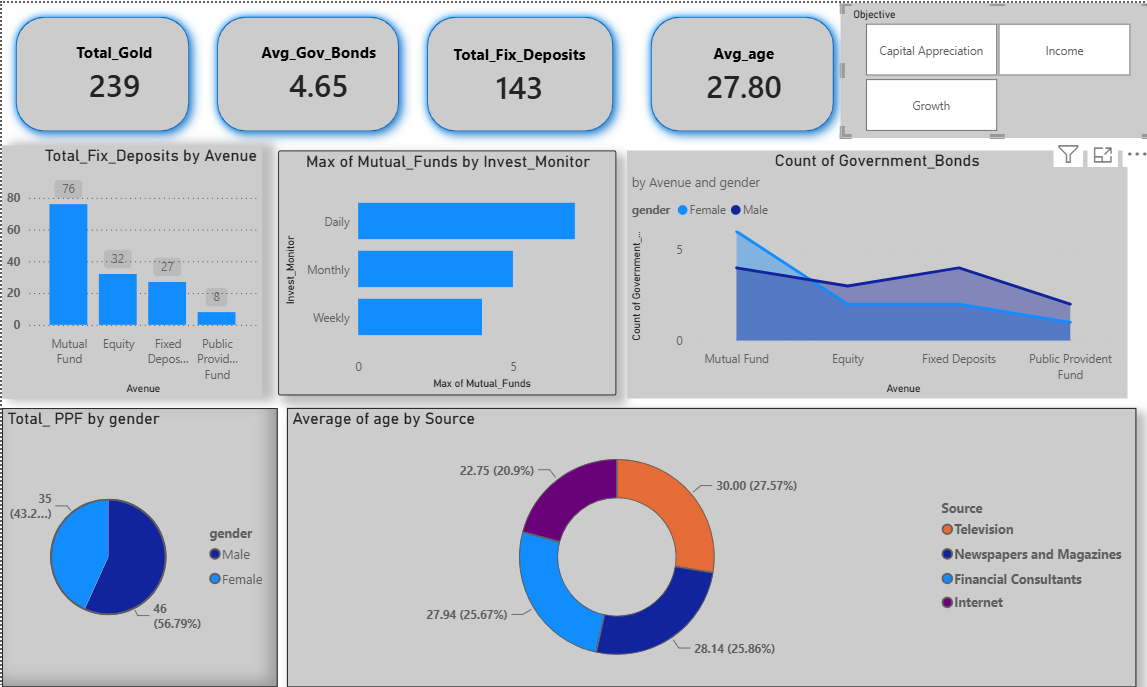

What the dashboard file says about the page in this screenshot:
{"tool":"powerbi","page":{"name":"Page 1","canvas":[1280,720],"ordinal":0},"visuals":[{"type":"shape","box":[0,0,208.9,147.8],"z":0},{"type":"shape","box":[426.7,0,222.2,147.8],"z":1000},{"type":"shape","box":[208.9,0,217.8,147.8],"z":2000},{"type":"shape","box":[660,0,218.9,147.8],"z":3000},{"type":"cardVisual","fields":{"Data":["Sum(Finance_data.Gold)"]},"box":[34.3,23.3,166,98.8],"z":4000},{"type":"cardVisual","fields":{"Data":["Avg(Finance_data.Government_Bonds)"]},"box":[238.9,23.3,180,98.9],"z":5000},{"type":"cardVisual","fields":{"Data":["Sum(Finance_data.Fixed_Deposits)"]},"box":[437.8,25.6,200,97.8],"z":6000},{"type":"cardVisual","fields":{"Data":["Avg(Finance_data.age)"]},"box":[687.8,24.4,165.6,98.9],"z":7000},{"type":"columnChart","fields":{"Category":["Finance_data.Avenue"],"Y":["Sum(Finance_data.Fixed_Deposits)"]},"box":[0,147.8,270,263.3],"z":8000},{"type":"barChart","fields":{"Category":["Finance_data.Invest_Monitor"],"Y":["Max(Finance_data.Mutual_Funds)"]},"box":[286.7,153.3,351.1,254.4],"z":9000},{"type":"areaChart","fields":{"Category":["Finance_data.Avenue"],"Y":["Count(Finance_data.Government_Bonds)"],"Series":["Finance_data.gender"]},"box":[648.9,153.3,520,257.8],"z":10000},{"type":"slicer","fields":{"Values":["Finance_data.Objective"]},"box":[871.1,0,324.4,140],"z":11000},{"type":"pieChart","fields":{"Category":["Finance_data.gender"],"Y":["Sum(Finance_data.PPF)"]},"box":[0,421.1,286.7,291.1],"z":12000},{"type":"donutChart","fields":{"Y":["Avg(Finance_data.age)"],"Category":["Finance_data.Source"]},"box":[296.7,421.1,882.2,291.1],"z":13000}]}

Visuals, with their boxes in screenshot pixels (x1, y1, x2, y2):
shape: BBox(15, 18, 206, 153)
shape: BBox(406, 18, 609, 153)
shape: BBox(206, 18, 406, 153)
shape: BBox(620, 18, 820, 153)
cardVisual - Sum(Finance_data.Gold): BBox(46, 39, 198, 130)
cardVisual - Avg(Finance_data.Government_Bonds): BBox(234, 39, 399, 130)
cardVisual - Sum(Finance_data.Fixed_Deposits): BBox(416, 41, 599, 131)
cardVisual - Avg(Finance_data.age): BBox(645, 40, 797, 131)
columnChart - Finance_data.Avenue x Sum(Finance_data.Fixed_Deposits): BBox(15, 153, 262, 395)
barChart - Finance_data.Invest_Monitor x Max(Finance_data.Mutual_Funds): BBox(278, 158, 599, 391)
areaChart - Finance_data.Avenue x Count(Finance_data.Government_Bonds): BBox(609, 158, 1086, 395)
slicer - Finance_data.Objective: BBox(813, 18, 1110, 146)
pieChart - Finance_data.gender x Sum(Finance_data.PPF): BBox(15, 404, 278, 670)
donutChart - Avg(Finance_data.age) x Finance_data.Source: BBox(287, 404, 1095, 670)
